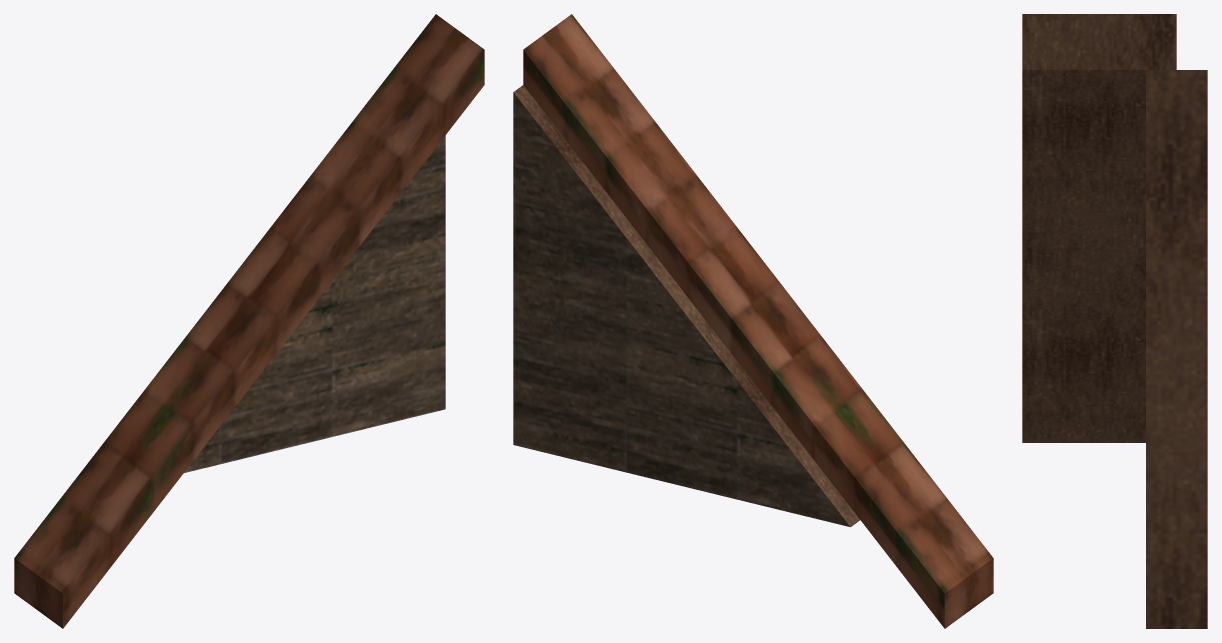
Rendered from roof_r.glb.
3 renders of one model, left to right at view 1: azimuth 30°, elevation 25°; view 2: azimuth 150°, elevation 25°; view 3: azimuth 270°, elevation 25°, orthographic. The views are drawn at different scales.
Visible parts, largest first — view 1: roof_01_R; view 2: roof_01_R; view 3: roof_01_R.
Part boxes in pixels (<box>): roof_01_R: <box>14,14,484,628</box>; roof_01_R: <box>513,14,993,628</box>; roof_01_R: <box>1022,14,1207,628</box>.
Bounding box in the file's own units: 2.5 × 2.7 × 0.6.
Materials: 1 (1 with a texture image).
